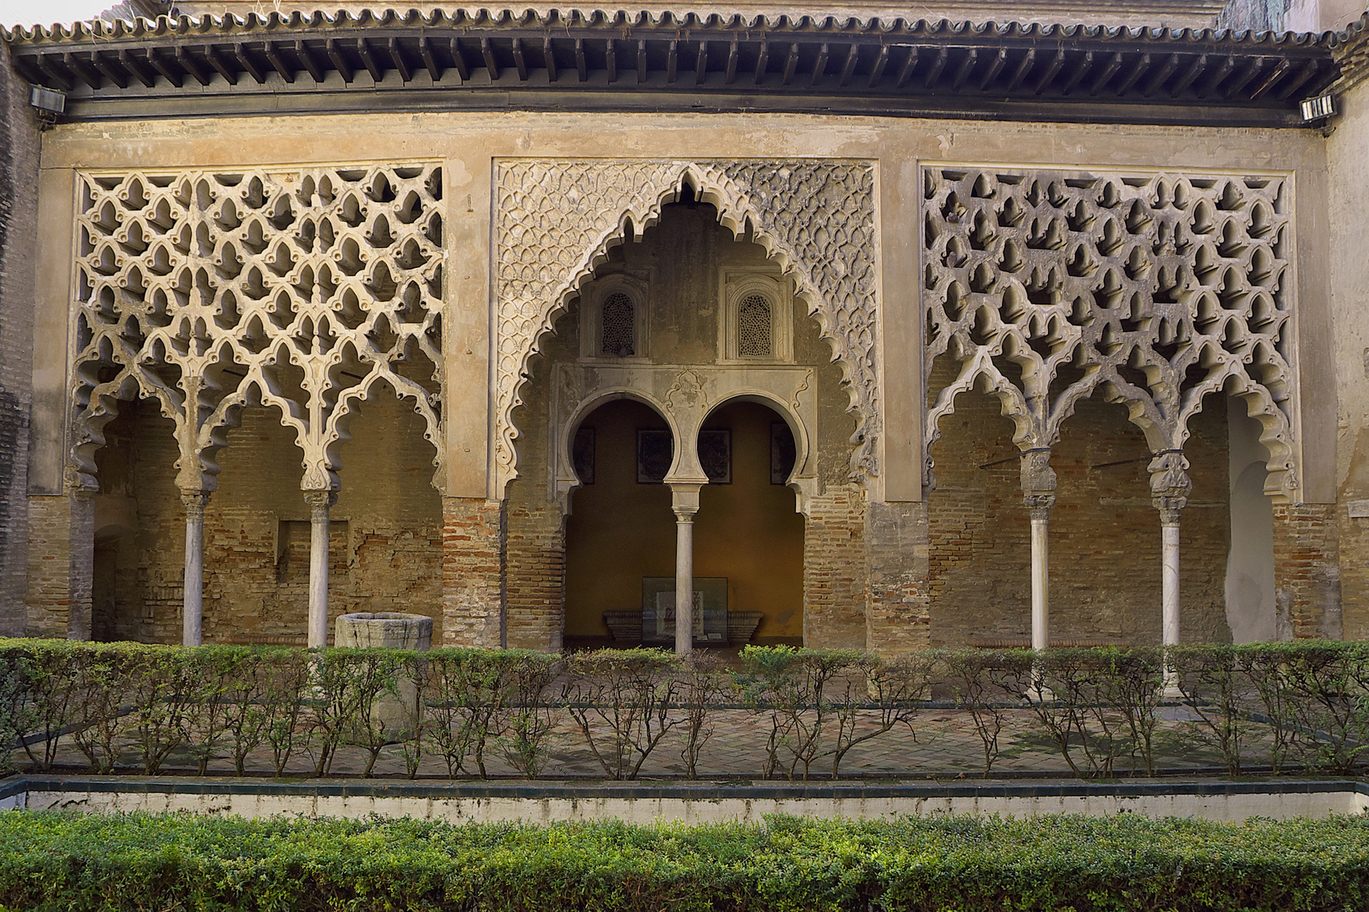arco-herradura: (551, 384, 687, 504), (685, 385, 810, 501)
arco-lobulado: (1039, 367, 1170, 512), (318, 363, 448, 505), (1170, 367, 1297, 511), (67, 362, 193, 504), (919, 365, 1041, 510), (193, 368, 317, 505)
